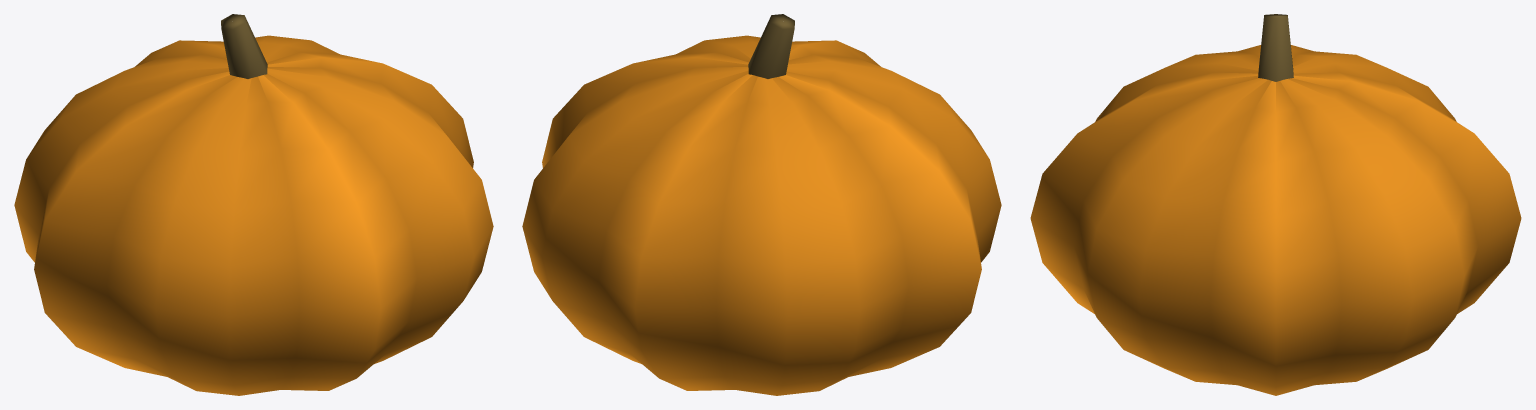
The model's file is fruit-pumpkin-gold.glb.
The picture shows the model from 3 angles, left to right: view 1: azimuth 30°, elevation 25°; view 2: azimuth 150°, elevation 25°; view 3: azimuth 270°, elevation 25°; orthographic projection. The views are drawn at different scales.
Parts seen in each view (by area): view 1: fruit-pumpkin; view 2: fruit-pumpkin; view 3: fruit-pumpkin.
Boxes of the visible parts, x1,y1,x2,y2 form: fruit-pumpkin: (14, 14, 493, 395); fruit-pumpkin: (522, 14, 1001, 395); fruit-pumpkin: (1030, 14, 1521, 395).
Size of the model in its own units: 1.08 by 0.826 by 1.08.
